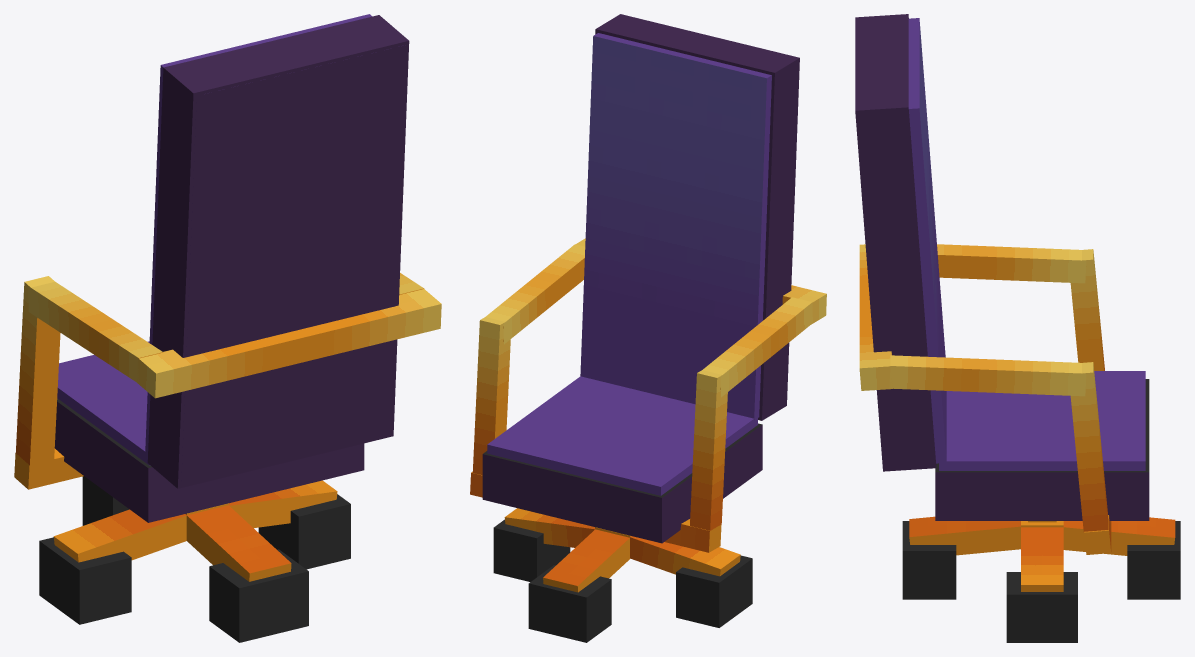
The model's file is Ceo Chair.gltf.
The picture shows the model from 3 angles, left to right: view 1: azimuth 30°, elevation 25°; view 2: azimuth 150°, elevation 25°; view 3: azimuth 270°, elevation 25°; orthographic projection. The views are drawn at different scales.
Visible parts, largest first — view 1: cube (×15); view 2: cube (×16); view 3: cube (×16).
Boxes of the visible parts, left/top/right/bottom form: cube (×15): left=14, top=14, right=441, bottom=642; cube (×16): left=470, top=14, right=826, bottom=642; cube (×16): left=855, top=14, right=1180, bottom=642.
Size of the model in its own units: 0.2579 by 0.5069 by 0.2855.
1 material, 1 textured.
